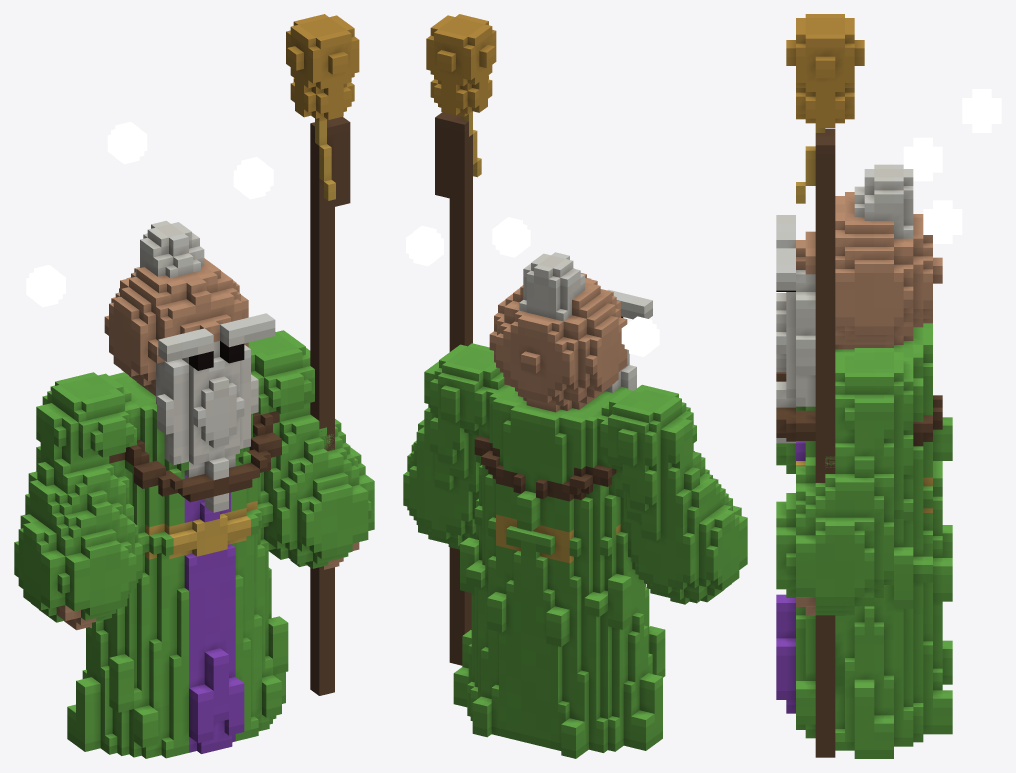
Rendered from u_moine__oracle.glb.
The picture shows the model from 3 angles, left to right: view 1: azimuth 30°, elevation 25°; view 2: azimuth 150°, elevation 25°; view 3: azimuth 270°, elevation 25°; orthographic projection. The views are drawn at different scales.
Parts seen in each view (by area): view 1: moine_body, moine_weapon, moine_glow; view 2: moine_body, moine_weapon, moine_glow; view 3: moine_body, moine_weapon, moine_glow.
Part boxes in pixels (box(x1,y1,x2,y2)): moine_body: box(14, 220, 374, 758); moine_weapon: box(286, 14, 359, 695); moine_glow: box(26, 121, 273, 307); moine_body: box(403, 252, 747, 758); moine_weapon: box(426, 14, 496, 665); moine_glow: box(406, 217, 659, 356); moine_body: box(776, 164, 952, 758); moine_weapon: box(786, 14, 864, 757); moine_glow: box(903, 89, 1001, 243).
Bounding box in the file's own units: 1.05 × 2.1 × 0.575.
